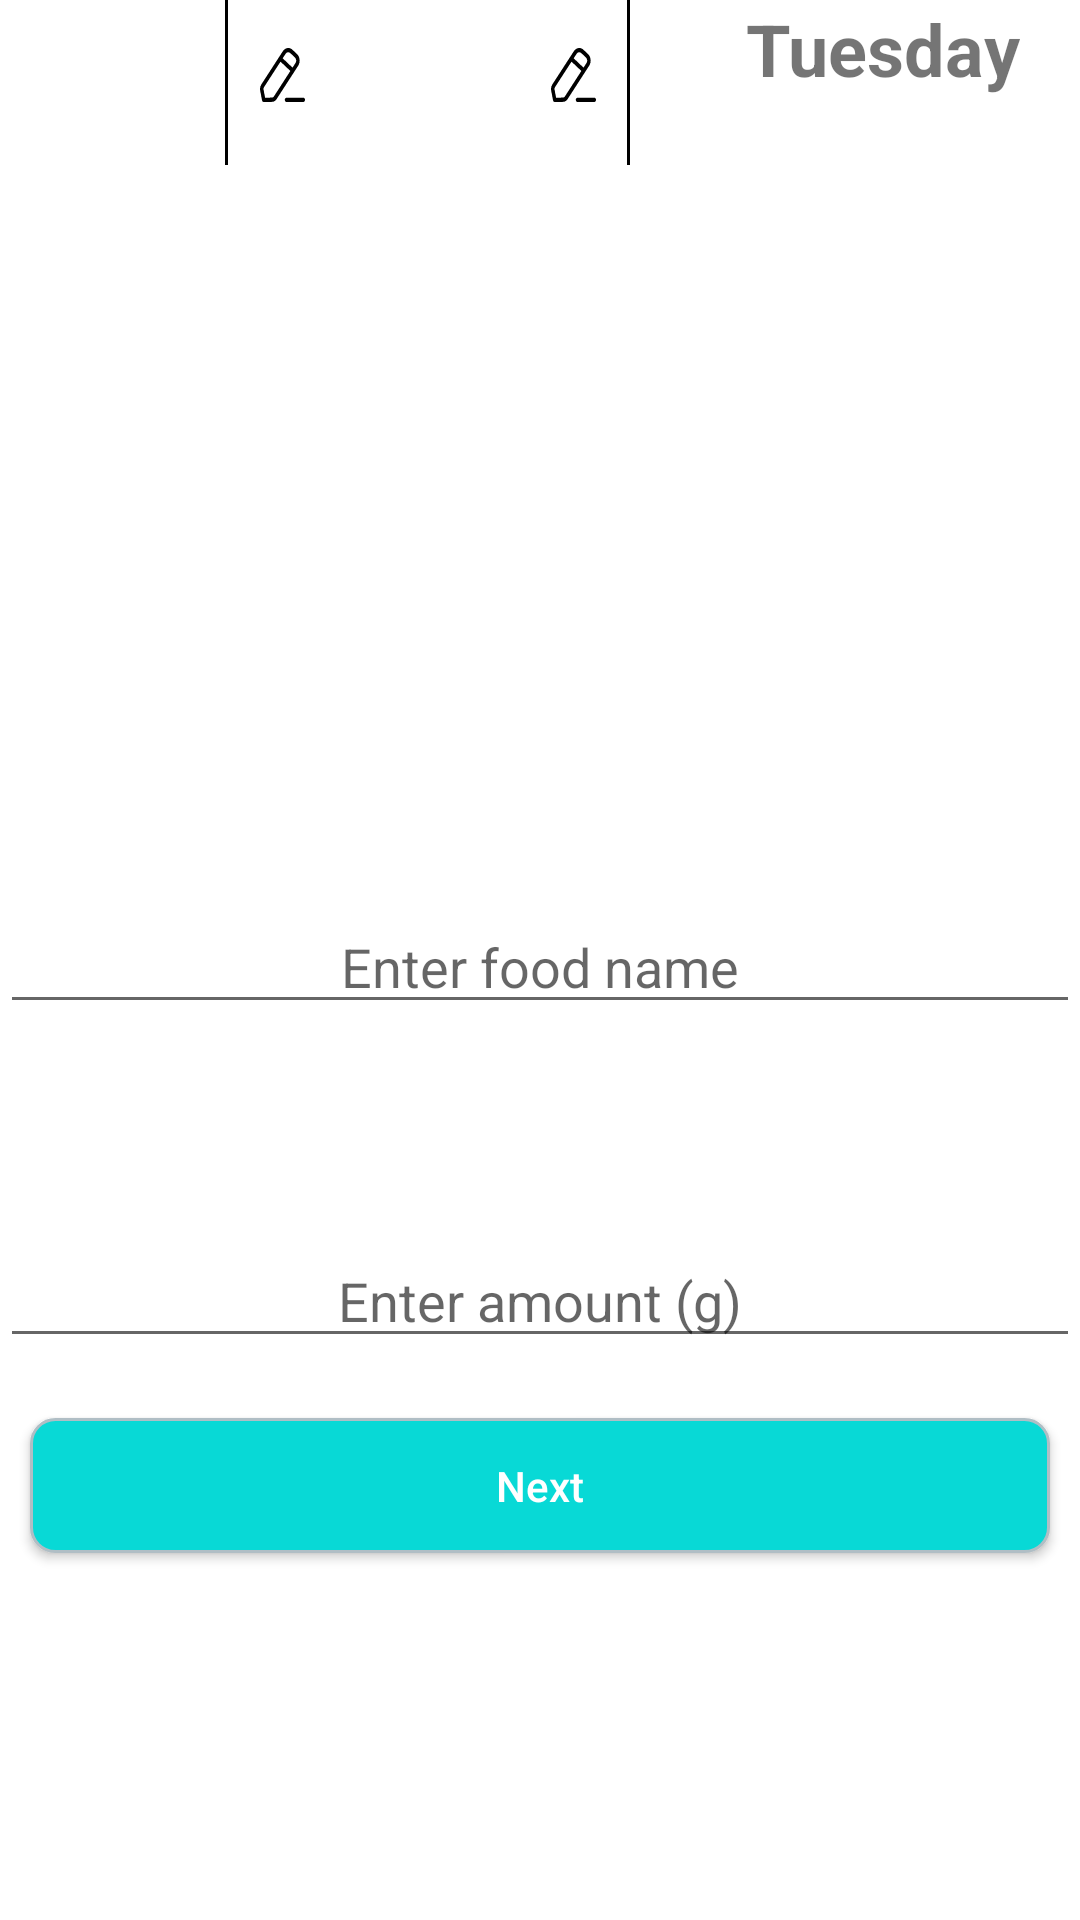

Icons on this 1080 × 1920 Android screen, each with the point to tap as (x,y):
edit: (282,75), (573,75)
